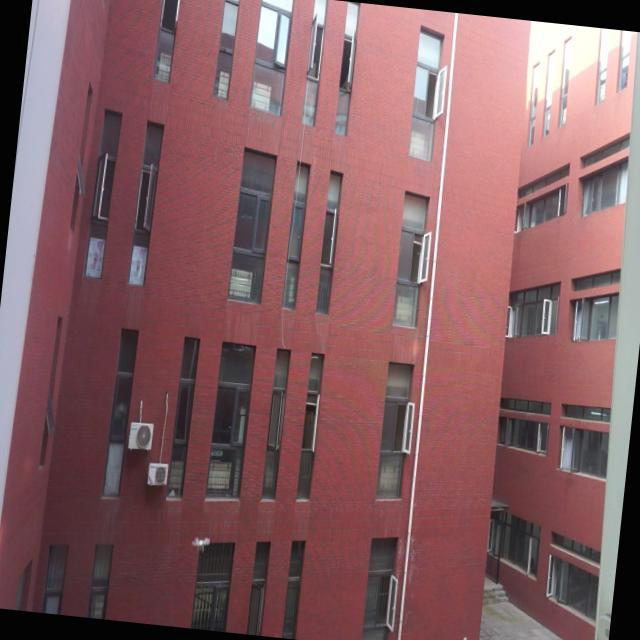drone: (190, 530, 212, 556)
